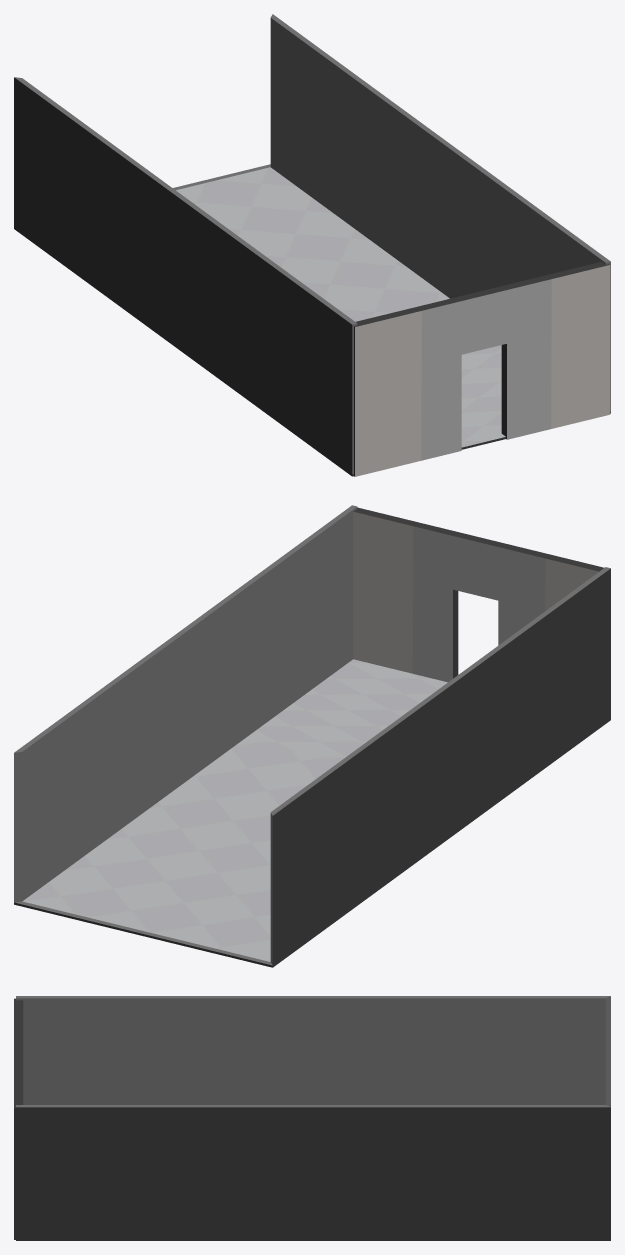
The model's file is Room.FBX.
3 views of the same model, one above another, from view 1: azimuth 30°, elevation 25°; view 2: azimuth 150°, elevation 25°; view 3: azimuth 270°, elevation 25° (orthographic). The views are drawn at different scales.
Parts seen in each view (by area): view 1: Object005; view 2: Object005; view 3: Object005.
Boxes of the visible parts, x1=… form: Object005: x1=14, y1=14, x2=610, y2=476; Object005: x1=14, y1=505, x2=610, y2=967; Object005: x1=14, y1=996, x2=610, y2=1240.
Bounding box in the file's own units: 480 × 269 × 1090.
1 material, 1 textured.
